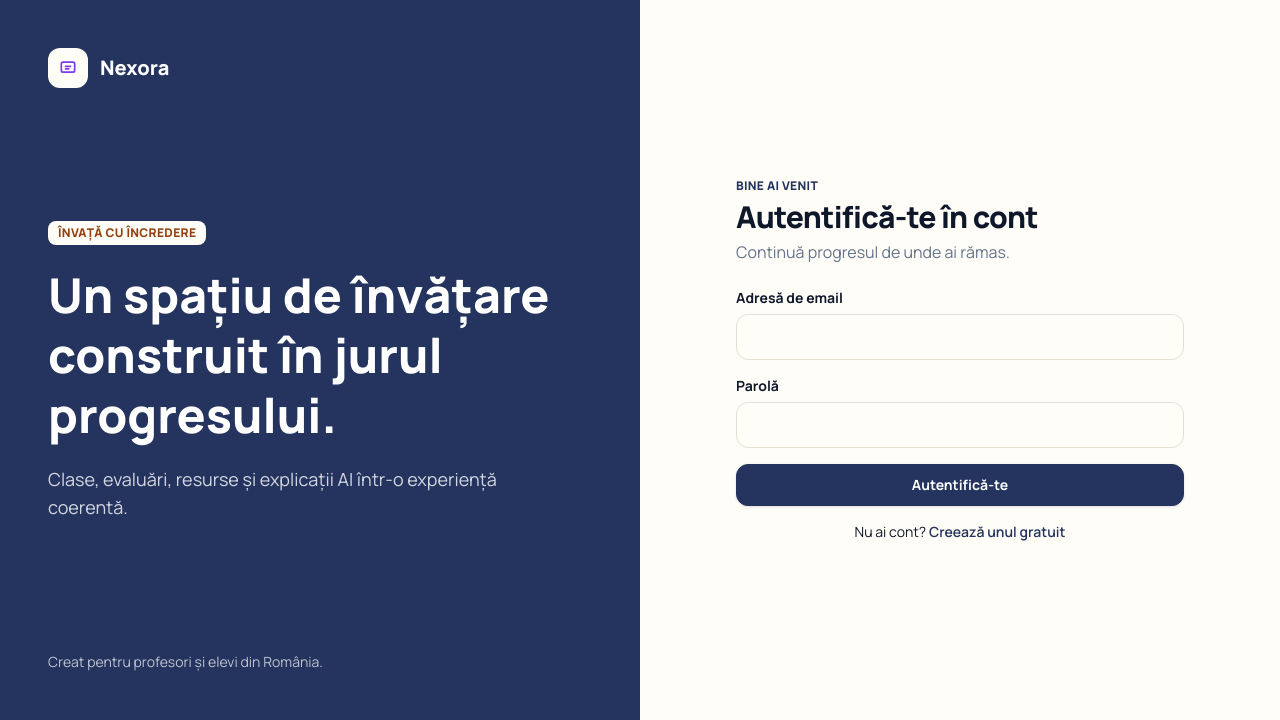
Scenario: signing in › sends an unauthenticated visitor to /login, then back to the page they wanted
Expected: the heading "Autentifică-te în cont" is shown, [736,196,1038,237]
Type "prof@example.com" into the field labelled "Adresă de email" at (960, 337), box [736,314,1184,360]
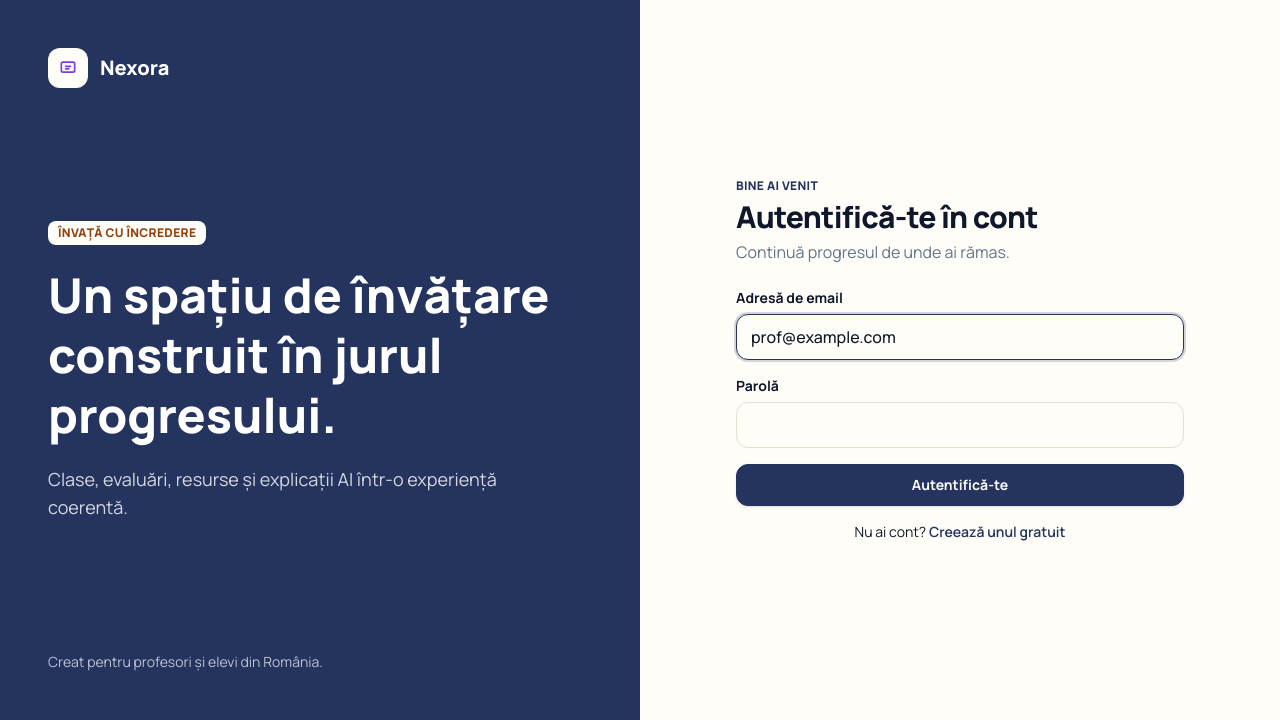
Type "parola-lunga" into the password field labelled "Parolă" at (960, 425), box [736,402,1184,448]
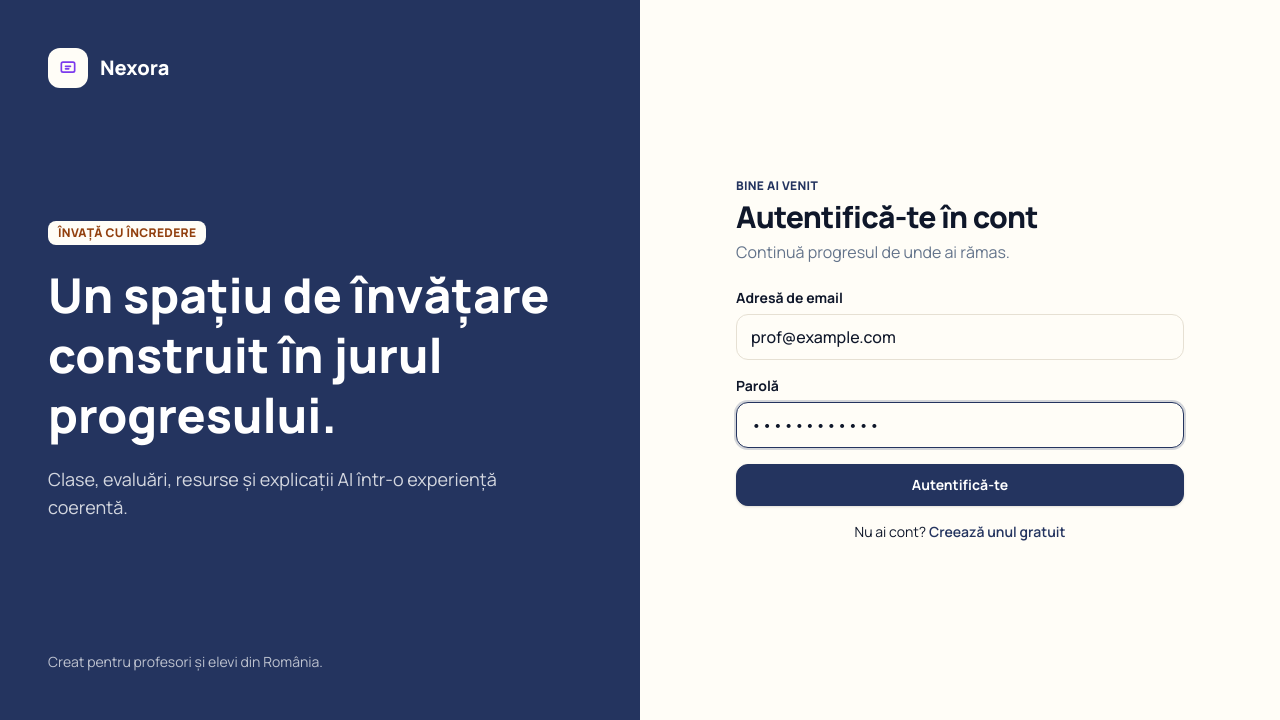
Click the button "Autentifică-te" at (960, 485), box [736,464,1184,506]
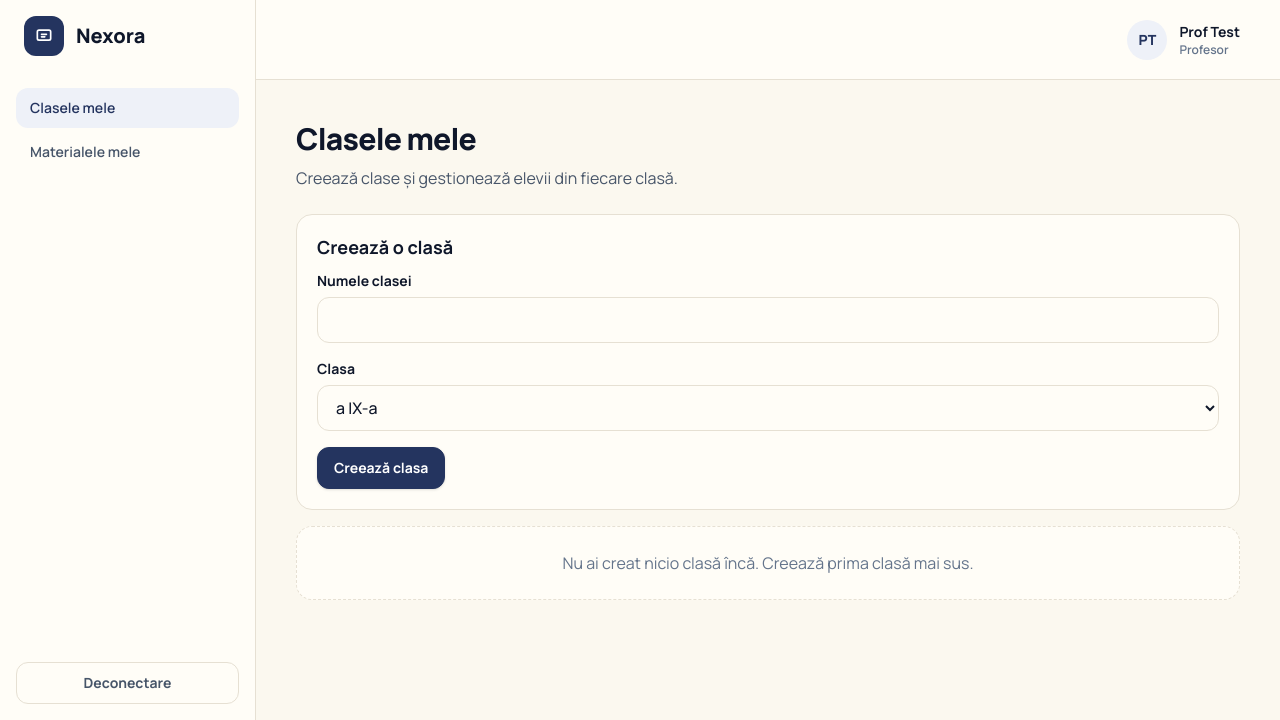
Expected: the heading "Clasele mele" is shown, [296,118,476,159]
Expected: the heading "Autentifică-te în cont" is gone
Expected: the text "Prof Test" is shown, [1179,22,1240,42]
